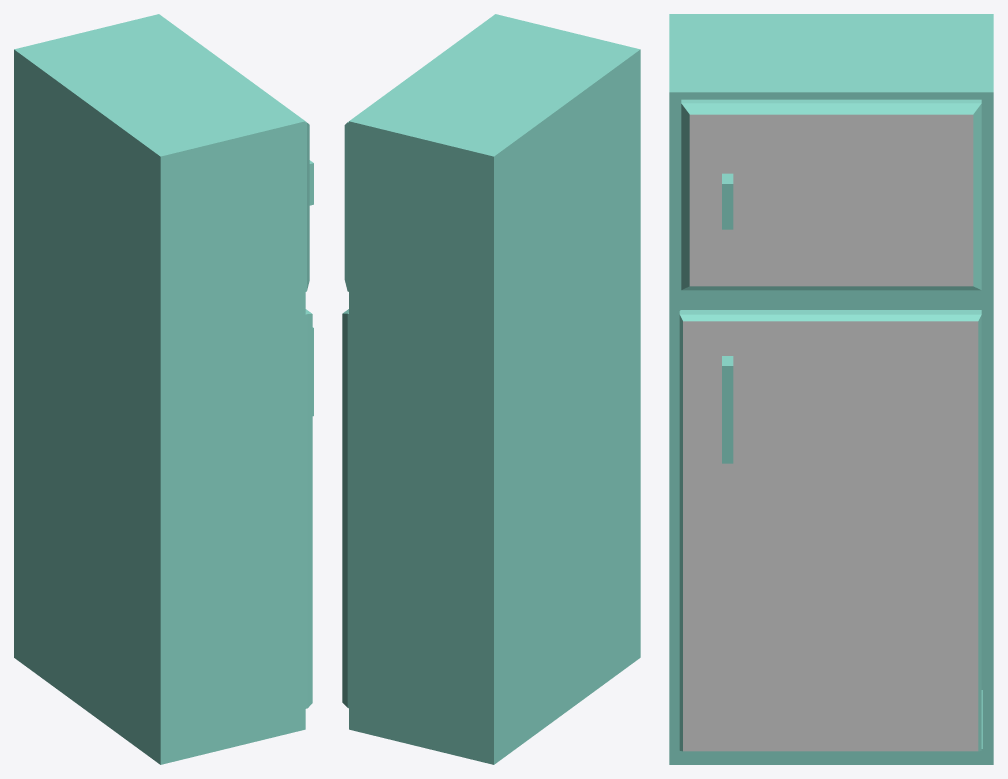
Rendered from fridge.fbx.
3 renders of one model, left to right at view 1: azimuth 30°, elevation 25°; view 2: azimuth 150°, elevation 25°; view 3: azimuth 270°, elevation 25°, orthographic. The views are drawn at different scales.
Parts seen in each view (by area): view 1: Frigo, porte; view 2: Frigo, porte; view 3: porte, Frigo, Poignee_bas, Poignee_haur.
Part boxes in pixels (<box>): Frigo: <box>14,14,309,764</box>; porte: <box>305,309,312,708</box>; Frigo: <box>344,14,640,764</box>; porte: <box>342,309,348,708</box>; porte: <box>679,310,981,751</box>; Frigo: <box>669,14,993,764</box>; Poignee_bas: <box>722,356,733,463</box>; Poignee_haur: <box>722,173,733,229</box>.
Bounding box in the file's own units: 92.6 × 304 × 133.
